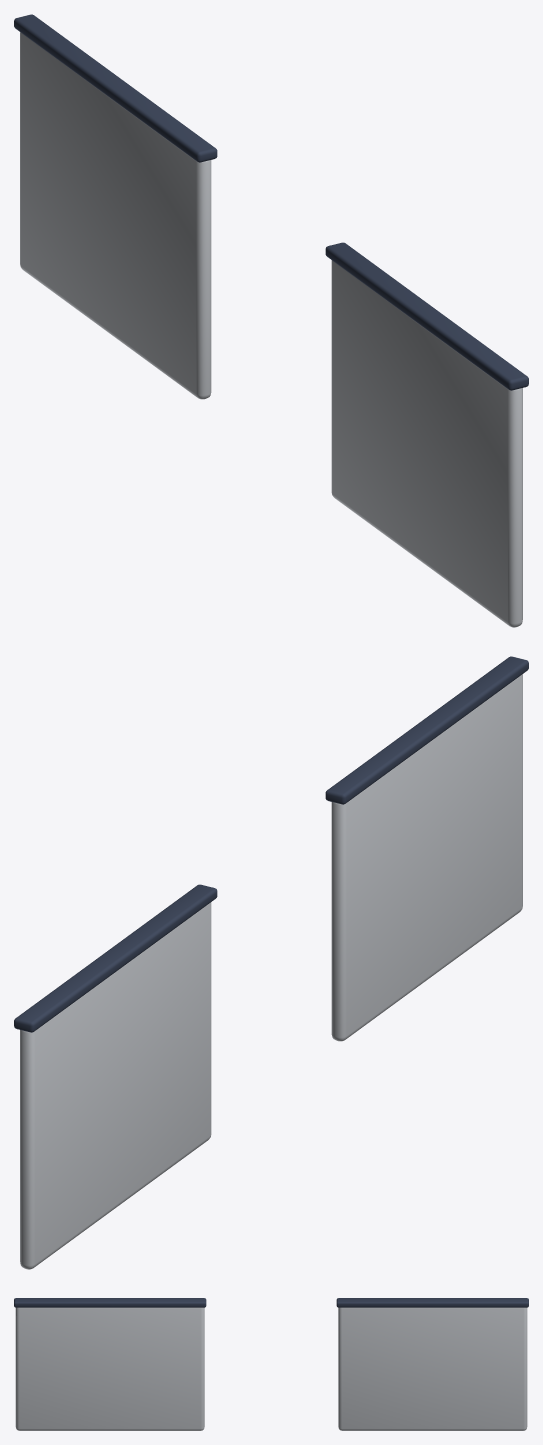
Rendered from cabin_divider.glb.
3 views of the same model, one above another, from view 1: azimuth 30°, elevation 25°; view 2: azimuth 150°, elevation 25°; view 3: azimuth 270°, elevation 25° (orthographic). The views are drawn at different scales.
Parts seen in each view (by area): view 1: core; view 2: core; view 3: core.
Part boxes in pixels (bbox=[...]): core: bbox=[14, 14, 528, 627]; core: bbox=[14, 656, 528, 1269]; core: bbox=[14, 1298, 528, 1430].
Size of the model in its own units: 0.0999 by 1.18 by 4.23.
